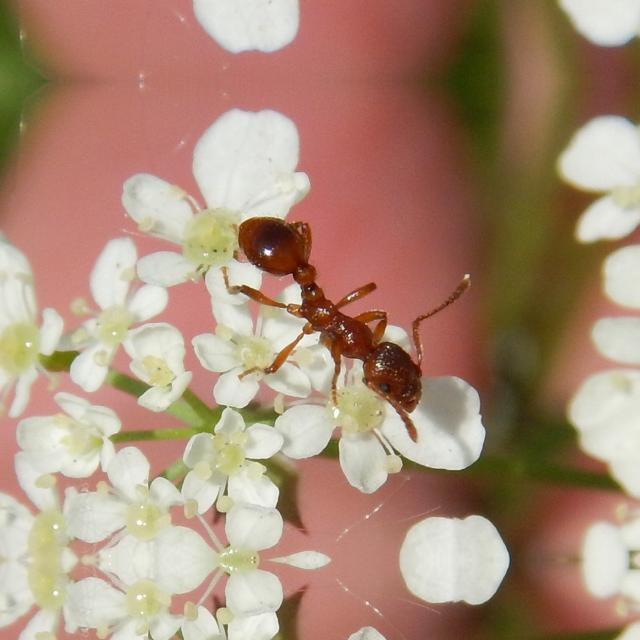Myrmica: (195, 187, 460, 431)
